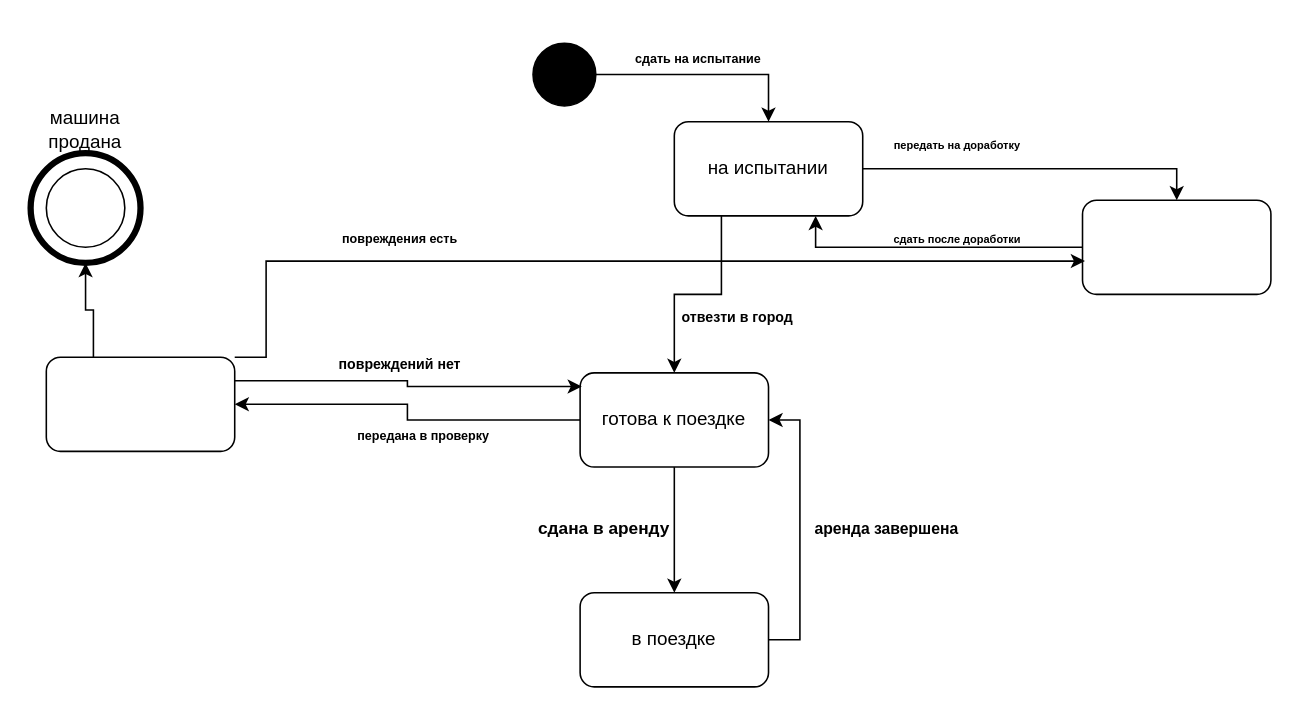
This 1298x714 diagram has some shape labels left out. The box of each missing label's shape, as (x1, y1, x2, y2) in pixels:
на доработке: (1081, 199, 1271, 294)
на проверке повреждений: (45, 356, 235, 451)
